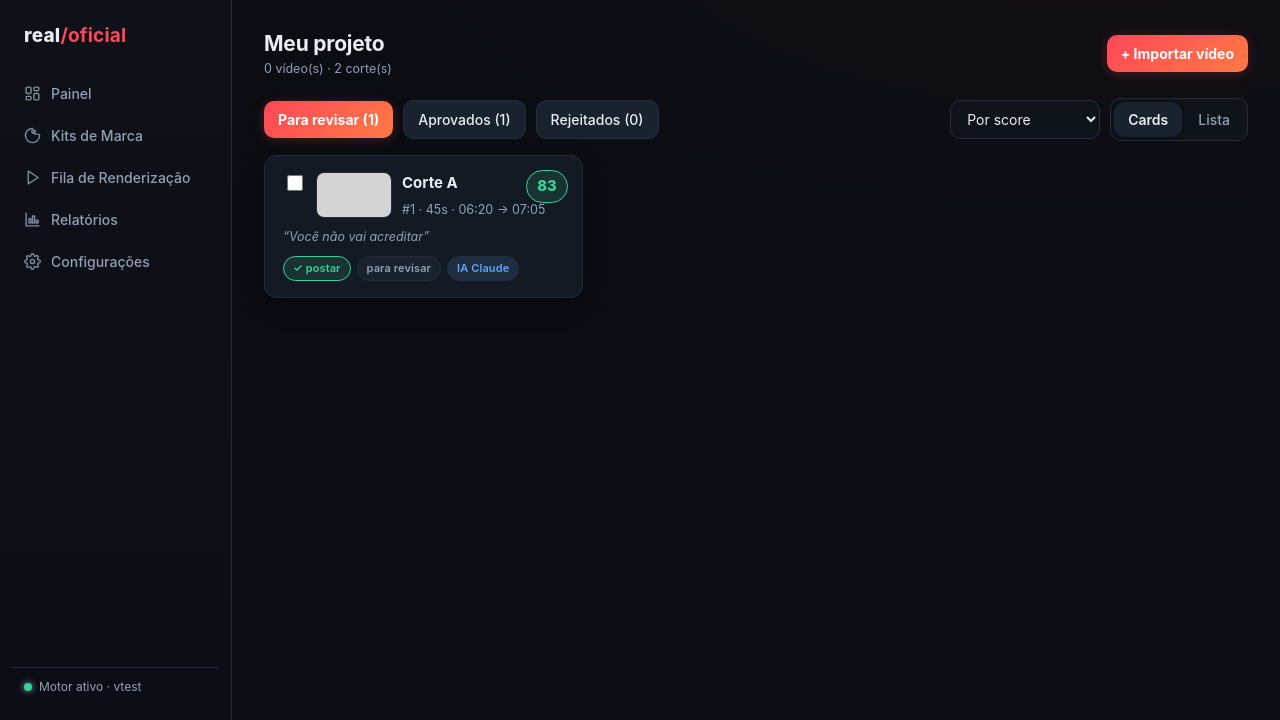
it: Ponto 2 — abas por estado editorial › Para revisar é a aba padrão e só contém pendentes; Aprovados tem o resto
Expected: the heading "Corte A" is shown, [402, 173, 458, 192]
Expected: the button with test id "tab-pending_review" reads "Para revisar (1)", [264, 101, 393, 138]
What coordinates should you click on to do the following:
click the button with test id "tab-approved"
I would click on:
 (464, 120)
Its box is [403, 100, 526, 139].
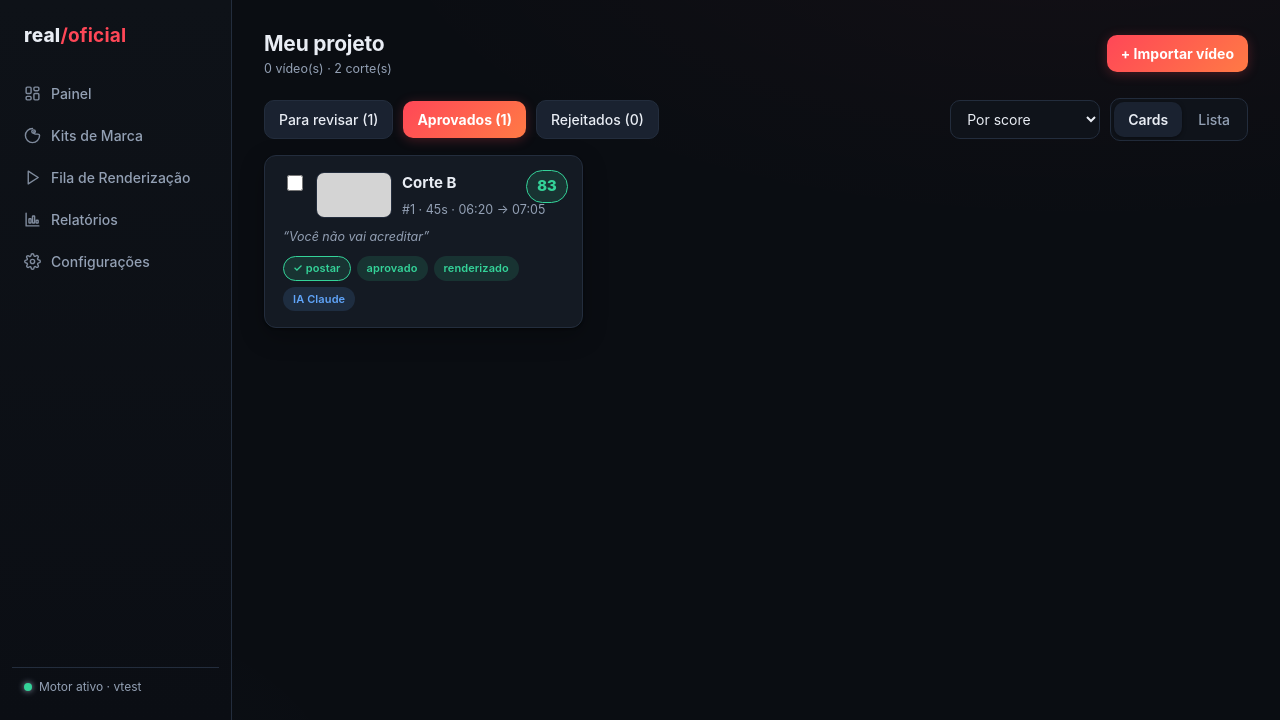
Expected: the heading "Corte B" is shown, [402, 173, 456, 192]
Expected: the heading "Corte A" is gone
What coordinates should you click on to do the following:
click the button with test id "tab-rejected"
I would click on:
 (597, 120)
Its box is [536, 100, 659, 139].
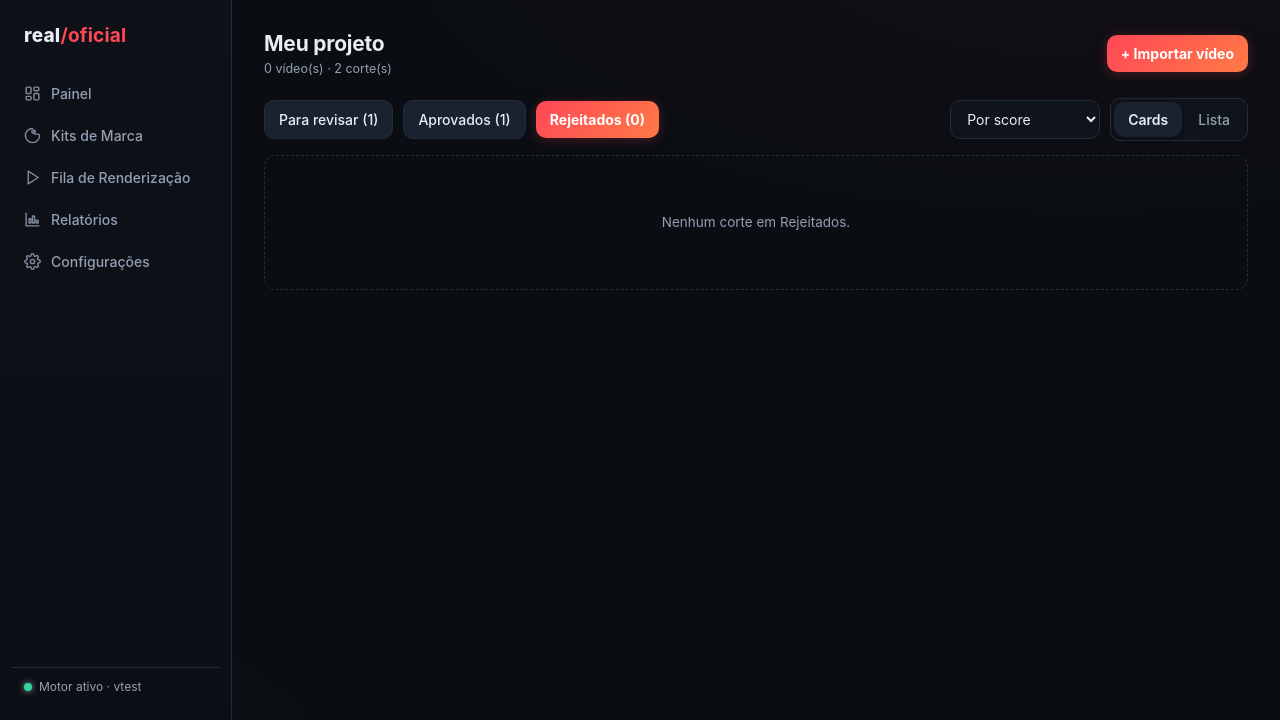
Expected: the text "Nenhum corte em Rejeitados." is shown, [264, 155, 1248, 290]
